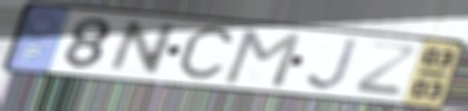8: (62, 17, 114, 71)
C: (173, 23, 239, 85)
J: (303, 37, 362, 94)
M: (220, 28, 305, 90)
N: (104, 19, 181, 77)
Z: (351, 40, 421, 99)
